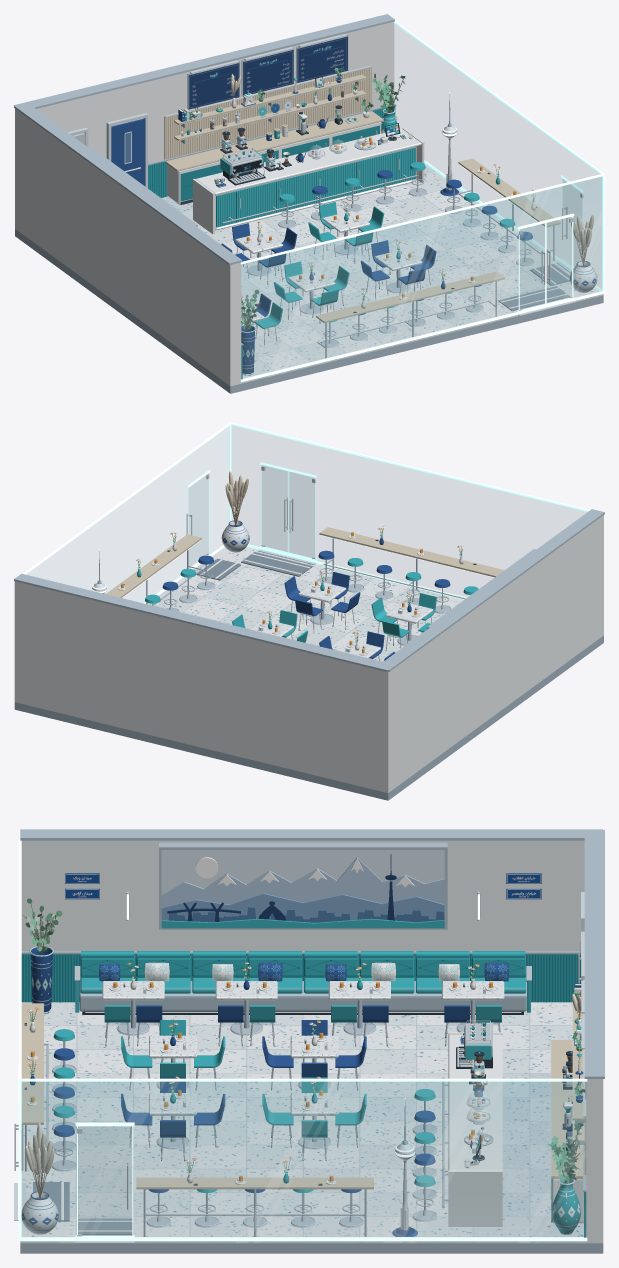
File: tehran_cafe_hall_v6 (1).glb
3 renders of one model, top to bottom at view 1: azimuth 30°, elevation 25°; view 2: azimuth 150°, elevation 25°; view 3: azimuth 270°, elevation 25°, orthographic. The views are drawn at different scales.
Visible parts, largest first — view 1: hall_shell_L1, hall_counter_L1, hall_backCabinet_L1, hall_menuBoards_L4, door_south, hall_windowBarSouth_L4, hall_windowBarEast_L4, hall_backBarShelves_L2, door_courier, hall_counterStools_L2, hall_espressoMachine_L1, hall_barGear_L2 (+7 smaller); view 2: hall_shell_L1, door_south, hall_windowBarSouth_L4, hall_windowBarEast_L4, door_east, hall_tableB2_L4, hall_doormat_L1, hall_tableA2_L4, hall_vaseSE_L4, hall_doormatE_L1; view 3: hall_shell_L1, Group_2415, hall_banquetteSofa_L3, hall_counter_L1, door_east, hall_windowBarEast_L4, hall_windowBarSouth_L4, hall_backCabinet_L1, hall_counterStools_L2, hall_bTable2_L3, hall_bTable4_L3, hall_bTable3_L3 (+33 smaller).
Part boxes in pixels (x1,y1,x2,y2): hall_shell_L1: (14,14,604,393); hall_counter_L1: (193,127,424,234); hall_backCabinet_L1: (164,65,383,204); hall_menuBoards_L4: (187,34,348,109); door_south: (517,213,575,315); hall_windowBarSouth_L4: (316,271,505,358); hall_windowBarEast_L4: (445,158,560,266); hall_backBarShelves_L2: (174,74,366,143); door_courier: (106,113,147,188); hall_counterStools_L2: (278,162,426,228); hall_espressoMachine_L1: (220,148,265,185); hall_barGear_L2: (220,105,369,153); hall_shell_L1: (14,422,604,800); door_south: (258,462,316,564); hall_windowBarSouth_L4: (317,527,504,613); hall_windowBarEast_L4: (106,534,215,611); door_east: (186,469,213,571); hall_tableB2_L4: (298,580,346,624); hall_doormat_L1: (241,552,312,576); hall_tableA2_L4: (385,602,433,645); hall_vaseSE_L4: (221,520,249,552); hall_doormatE_L1: (196,558,240,580); hall_shell_L1: (18,829,604,1253); Group_2415: (159,842,447,929); hall_banquetteSofa_L3: (74,962,531,1014); hall_counter_L1: (442,1032,502,1226); door_east: (75,1122,134,1243); hall_windowBarEast_L4: (136,1172,373,1236); hall_windowBarSouth_L4: (21,1003,76,1171); hall_backCabinet_L1: (550,979,586,1223); hall_counterStools_L2: (412,1089,437,1221); hall_bTable2_L3: (328,978,390,1035); hall_bTable4_L3: (102,978,164,1035); hall_bTable3_L3: (215,978,277,1035).
Bounding box in the file's own units: 10.44 × 3.45 × 10.44.
Materials: 128 (27 with a texture image).
